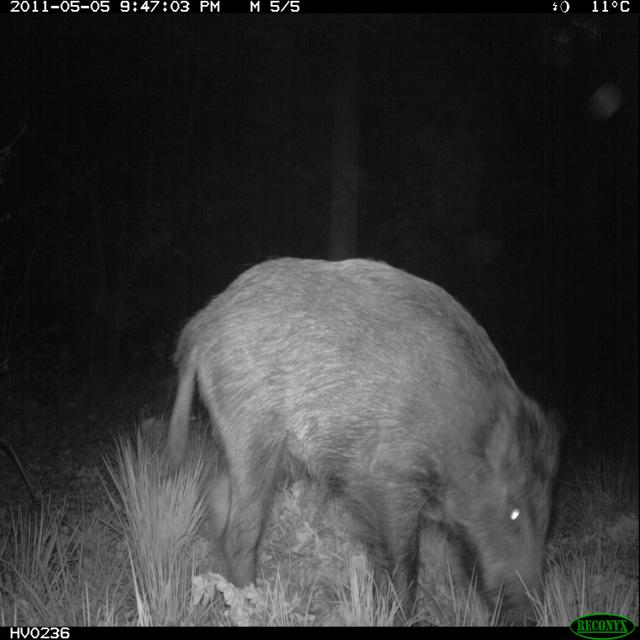boar: (112, 226, 611, 620)
